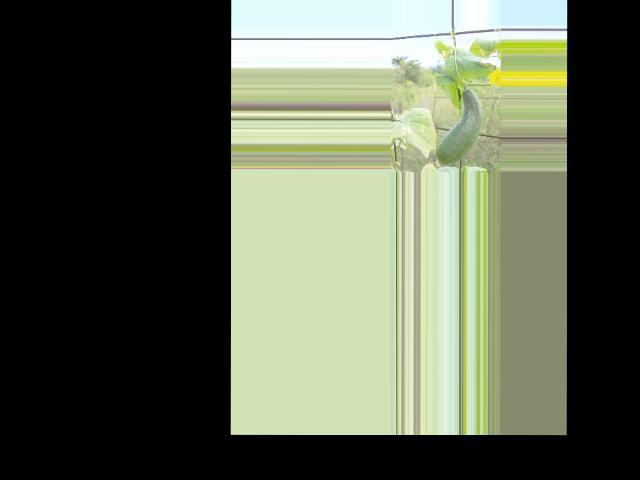cucumber: (435, 87, 482, 164)
